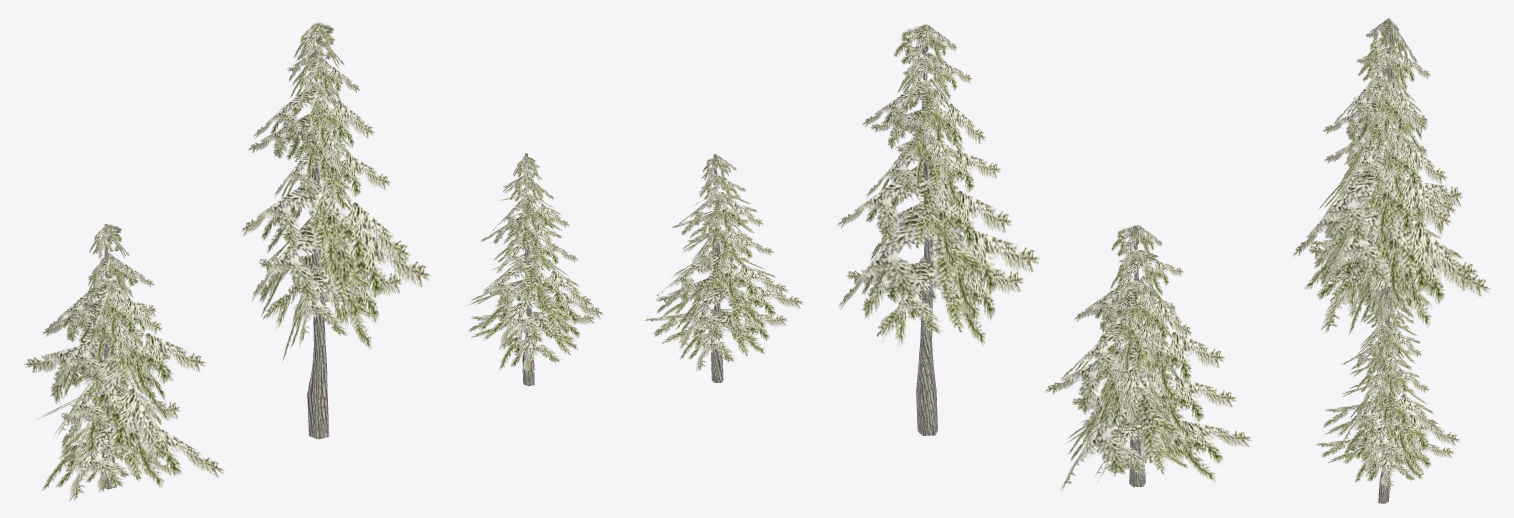
Rendered from pines-pack.glb.
3 views of the same model, side by side, from view 1: azimuth 30°, elevation 25°; view 2: azimuth 150°, elevation 25°; view 3: azimuth 270°, elevation 25° (orthographic). The views are drawn at different scales.
Parts seen in each view (by area): view 1: Tree_Pine_Snowy_T2_Tree_Pine_Snowy_0, Tree_Pine_Snowy_T3_Tree_Pine_Snowy_0, Tree_Pine_Snowy_T1_Tree_Pine_Snowy_0; view 2: Tree_Pine_Snowy_T2_Tree_Pine_Snowy_0, Tree_Pine_Snowy_T3_Tree_Pine_Snowy_0, Tree_Pine_Snowy_T1_Tree_Pine_Snowy_0; view 3: Tree_Pine_Snowy_T2_Tree_Pine_Snowy_0, Tree_Pine_Snowy_T1_Tree_Pine_Snowy_0, Tree_Pine_Snowy_T3_Tree_Pine_Snowy_0.
Part boxes in pixels (x1,y1,x2,y2): Tree_Pine_Snowy_T2_Tree_Pine_Snowy_0: [241, 22, 430, 439]; Tree_Pine_Snowy_T3_Tree_Pine_Snowy_0: [24, 224, 224, 501]; Tree_Pine_Snowy_T1_Tree_Pine_Snowy_0: [467, 153, 603, 386]; Tree_Pine_Snowy_T2_Tree_Pine_Snowy_0: [837, 24, 1039, 435]; Tree_Pine_Snowy_T3_Tree_Pine_Snowy_0: [1044, 225, 1251, 490]; Tree_Pine_Snowy_T1_Tree_Pine_Snowy_0: [644, 154, 803, 382]; Tree_Pine_Snowy_T2_Tree_Pine_Snowy_0: [1307, 18, 1477, 399]; Tree_Pine_Snowy_T1_Tree_Pine_Snowy_0: [1316, 286, 1460, 503]; Tree_Pine_Snowy_T3_Tree_Pine_Snowy_0: [1292, 63, 1490, 332].
Size of the model in its own units: 27.3 by 19.63 by 9.36.
1 material, 1 textured.
